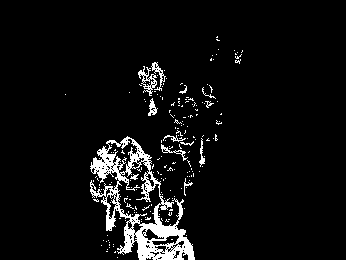person: (115, 134, 155, 254), (135, 198, 194, 260), (89, 138, 121, 251), (150, 134, 195, 203), (194, 82, 226, 165), (168, 81, 198, 143)
